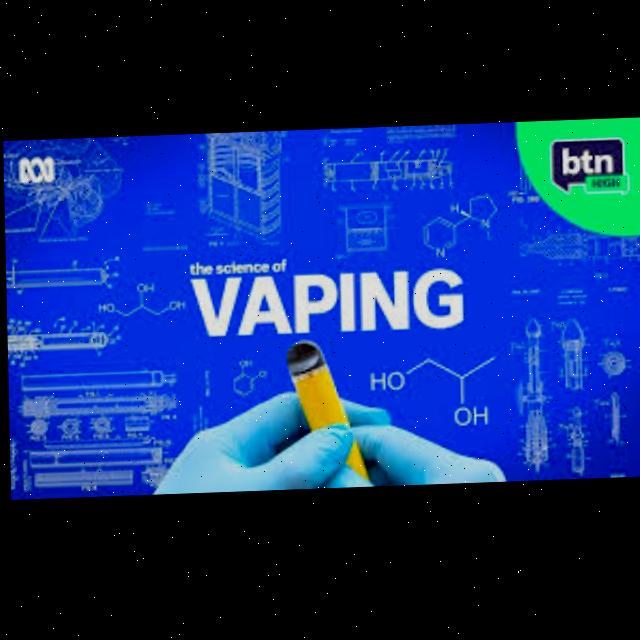vape: (285, 342, 370, 491)
